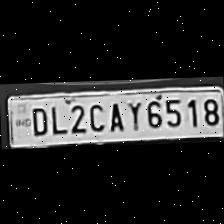1: (182, 94, 198, 127)
2: (65, 100, 85, 134)
5: (161, 93, 181, 126)
6: (142, 95, 162, 128)
8: (198, 92, 220, 125)
A: (104, 96, 124, 132)
C: (84, 98, 106, 132)
D: (26, 102, 48, 135)
L: (47, 100, 65, 134)
Y: (124, 96, 142, 130)
